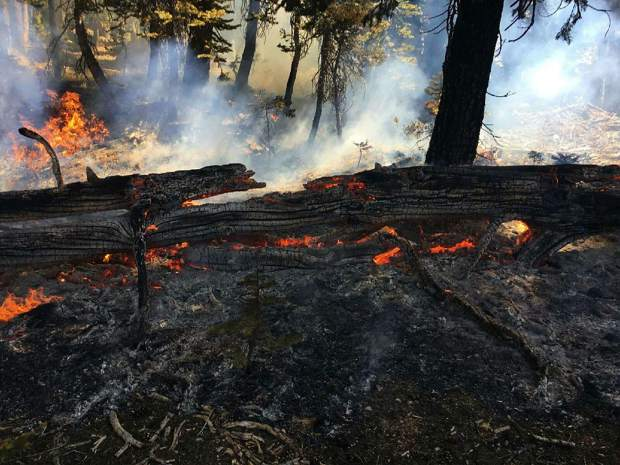fire: (223, 164, 606, 340), (1, 188, 225, 348), (5, 87, 122, 188)
